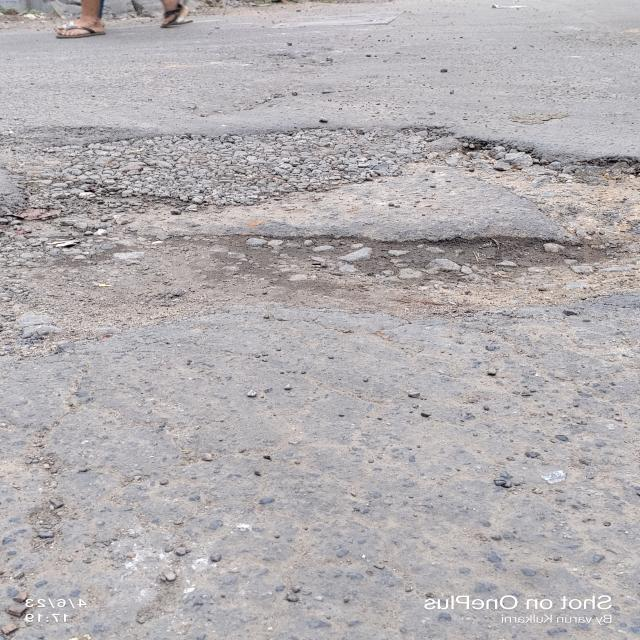potholes: (2, 112, 640, 356)
